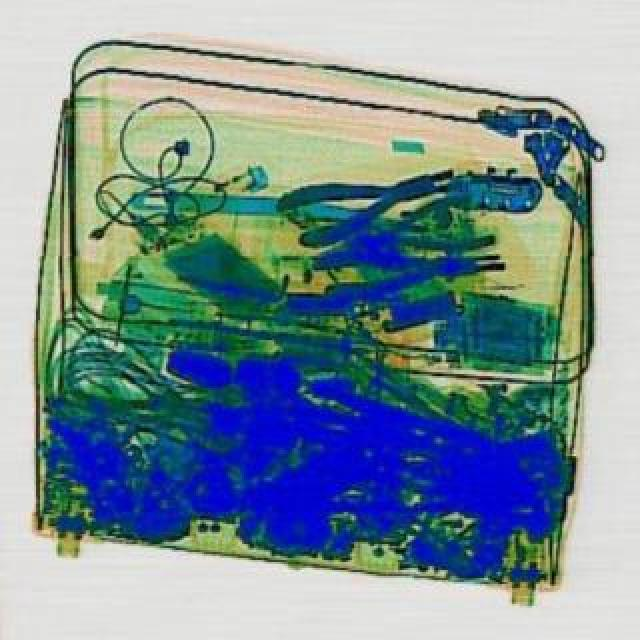wrench: (268, 142, 466, 254), (306, 184, 496, 278), (310, 232, 508, 304)
